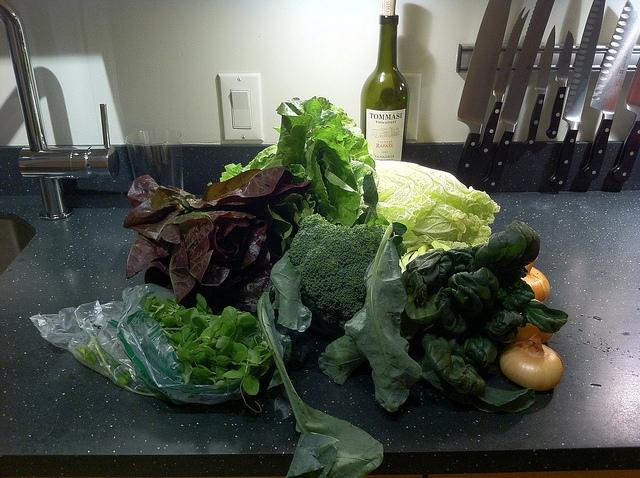broccoli: (290, 214, 388, 336)
onion: (500, 334, 564, 391), (520, 255, 550, 302), (514, 323, 554, 343)
